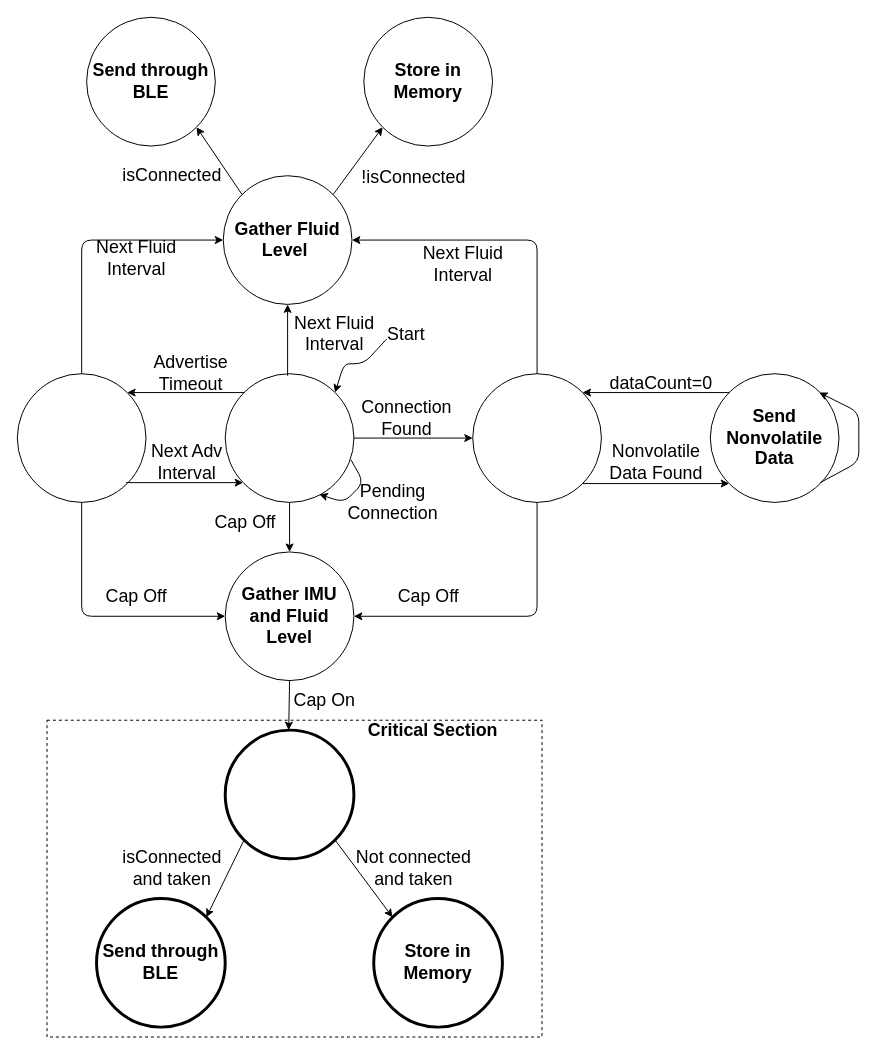
This 884x1054 diagram has some shape labels left out. Each missing label, with the centre of its shape:
"Connected" belongs at [536,437].
"Low Power Sleep" belongs at [81,437].
"Poll for BLE connection (advertise)" belongs at [289,437].
"Run ML" belongs at [289,794].
